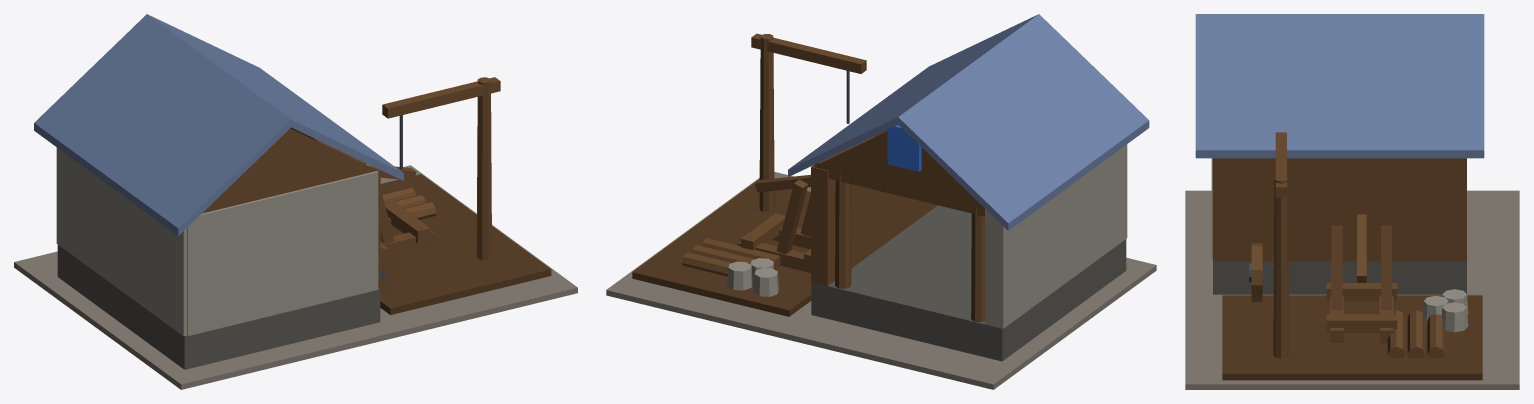
The model's file is SiegeWorkshop.obj.
The picture shows the model from 3 angles, left to right: view 1: azimuth 30°, elevation 25°; view 2: azimuth 150°, elevation 25°; view 3: azimuth 270°, elevation 25°; orthographic projection. The views are drawn at different scales.
Parts seen in each view (by area): view 1: SiegeWorkshop_stone, SiegeWorkshop_roof_team, SiegeWorkshop_timber, SiegeWorkshop_cobble, SiegeWorkshop_dark_stone, SiegeWorkshop_soil; view 2: SiegeWorkshop_roof_team, SiegeWorkshop_timber, SiegeWorkshop_dark_stone, SiegeWorkshop_stone, SiegeWorkshop_cobble, SiegeWorkshop_soil, SiegeWorkshop_banner_team; view 3: SiegeWorkshop_roof_team, SiegeWorkshop_timber, SiegeWorkshop_cobble, SiegeWorkshop_soil, SiegeWorkshop_dark_stone, SiegeWorkshop_stone.
Part boxes in pixels (bbox=[...]): SiegeWorkshop_stone: bbox=[56, 147, 378, 336]; SiegeWorkshop_roof_team: bbox=[34, 14, 403, 236]; SiegeWorkshop_timber: bbox=[202, 77, 500, 296]; SiegeWorkshop_cobble: bbox=[14, 165, 577, 389]; SiegeWorkshop_dark_stone: bbox=[57, 244, 380, 369]; SiegeWorkshop_soil: bbox=[380, 174, 551, 314]; SiegeWorkshop_roof_team: bbox=[788, 14, 1149, 230]; SiegeWorkshop_timber: bbox=[682, 33, 984, 321]; SiegeWorkshop_dark_stone: bbox=[811, 205, 1126, 361]; SiegeWorkshop_stone: bbox=[727, 144, 1127, 328]; SiegeWorkshop_cobble: bbox=[606, 172, 1156, 389]; SiegeWorkshop_soil: bbox=[632, 179, 811, 316]; SiegeWorkshop_banner_team: bbox=[887, 125, 921, 171]; SiegeWorkshop_roof_team: bbox=[1195, 14, 1484, 158]; SiegeWorkshop_timber: bbox=[1213, 132, 1466, 358]; SiegeWorkshop_cobble: bbox=[1185, 190, 1519, 389]; SiegeWorkshop_soil: bbox=[1222, 295, 1482, 380]; SiegeWorkshop_dark_stone: bbox=[1213, 261, 1466, 294]; SiegeWorkshop_stone: bbox=[1211, 158, 1468, 332].
Size of the model in its own units: 7.4 by 4.25 by 5.4.
